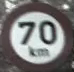Speed limit: (5, 8, 67, 64)
